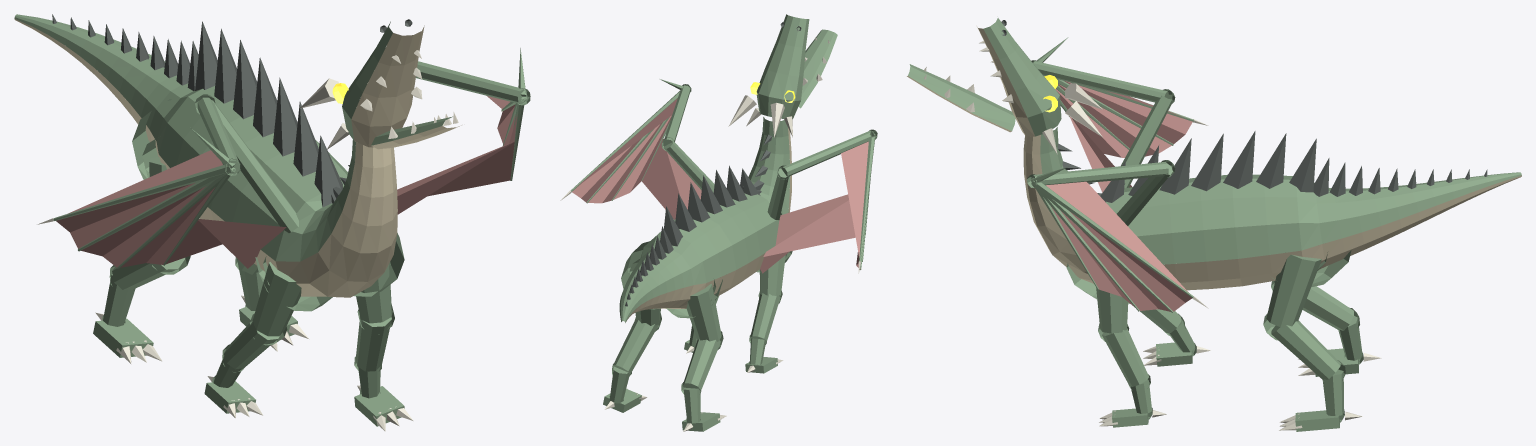
Rendered from dragons-and-wyverns-dragon-hatchling-calling-b1d92dbf__36708.glb.
3 views of the same model, side by side, from view 1: azimuth 30°, elevation 25°; view 2: azimuth 150°, elevation 25°; view 3: azimuth 270°, elevation 25° (orthographic). The views are drawn at different scales.
Visible parts, largest first — view 1: dragon-hatchling-calling; view 2: dragon-hatchling-calling; view 3: dragon-hatchling-calling.
Part boxes in pixels (left/top/right/bottom): dragon-hatchling-calling: left=14, top=14, right=530, bottom=431; dragon-hatchling-calling: left=560, top=14, right=877, bottom=431; dragon-hatchling-calling: left=907, top=18, right=1521, bottom=431.
Bounding box in the file's own units: 0.3939 × 0.3867 × 0.5599.
